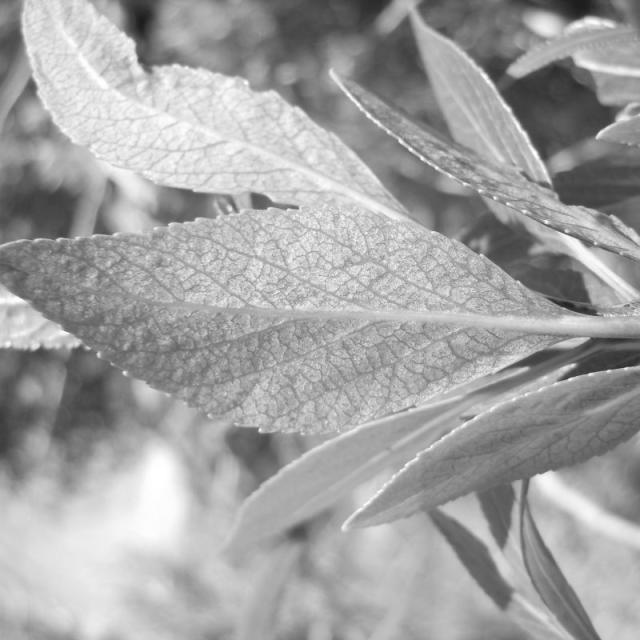Populus angustifolia: (0, 0, 640, 568)
